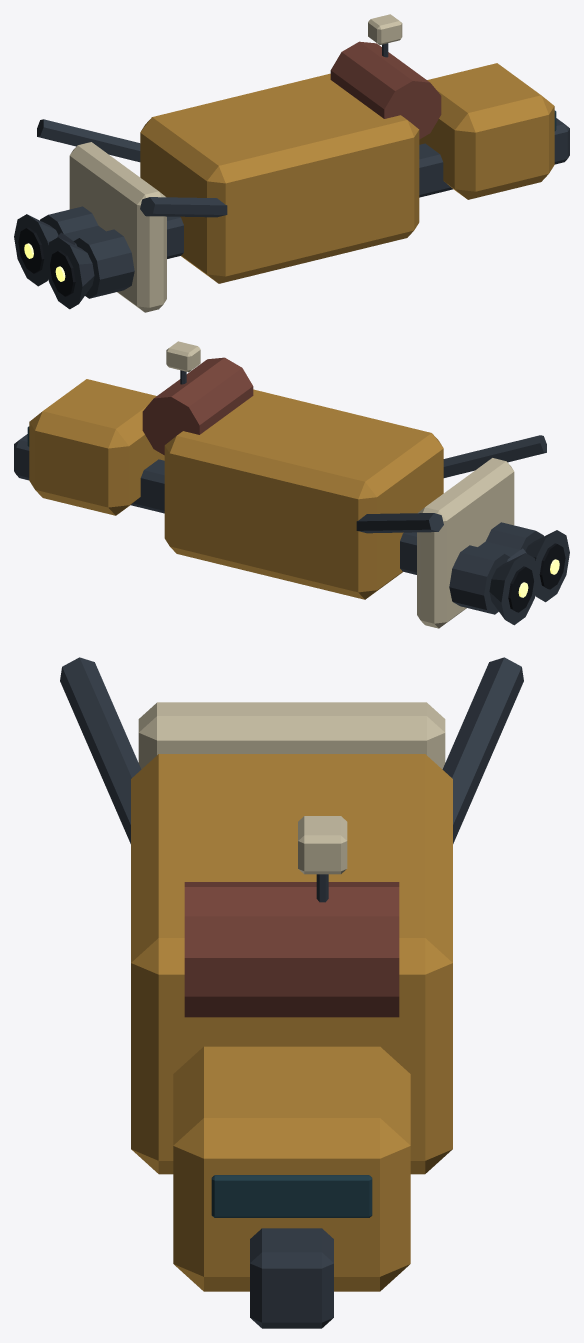
File: last-purchase.glb
3 renders of one model, top to bottom at view 1: azimuth 30°, elevation 25°; view 2: azimuth 150°, elevation 25°; view 3: azimuth 270°, elevation 25°, orthographic. The views are drawn at different scales.
Visible parts, largest first — view 1: machinery block, forward command, reactor shield, tow winch, structural spine, engine jacket, towing arm.001, engine bell, towing arm, engine bell.001, engine jacket.001, sensor head (+2 smaller); view 2: machinery block, forward command, reactor shield, tow winch, structural spine, engine jacket.001, towing arm, engine bell.001, towing arm.001, engine bell, engine jacket, sensor head (+2 smaller); view 3: machinery block, forward command, tow winch, reactor shield, structural spine, bridge glazing, towing arm, towing arm.001, sensor head.
Boxes of the visible parts, left/top/right/bottom form: machinery block: left=140, top=73, right=419, bottom=283; forward command: left=419, top=63, right=554, bottom=199; reactor shield: left=69, top=142, right=166, bottom=312; tow winch: left=330, top=41, right=441, bottom=139; structural spine: left=57, top=118, right=569, bottom=258; engine jacket: left=73, top=229, right=134, bottom=298; towing arm.001: left=37, top=119, right=140, bottom=162; engine bell: left=45, top=237, right=94, bottom=309; towing arm: left=140, top=197, right=227, bottom=217; engine bell.001: left=14, top=214, right=58, bottom=286; engine jacket.001: left=40, top=206, right=98, bottom=234; sensor head: left=368, top=14, right=402, bottom=44; machinery block: left=164, top=389, right=443, bottom=599; forward command: left=29, top=379, right=164, bottom=515; reactor shield: left=417, top=458, right=514, bottom=628; tow winch: left=142, top=357, right=253, bottom=455; structural spine: left=14, top=434, right=526, bottom=574; engine jacket.001: left=449, top=545, right=510, bottom=614; towing arm: left=443, top=435, right=546, bottom=477; engine bell.001: left=489, top=553, right=537, bottom=625; towing arm.001: left=356, top=513, right=443, bottom=533; engine bell: left=525, top=530, right=569, bottom=602; engine jacket: left=485, top=522, right=543, bottom=550; sensor head: left=166, top=341, right=200, bottom=372; machinery block: left=131, top=754, right=452, bottom=1174; forward command: left=173, top=1046, right=410, bottom=1291; tow winch: left=184, top=882, right=399, bottom=1017; reactor shield: left=138, top=702, right=445, bottom=769; structural spine: left=250, top=1228, right=333, bottom=1328; bridge glazing: left=211, top=1175, right=372, bottom=1217; towing arm: left=60, top=657, right=141, bottom=843; towing arm.001: left=442, top=657, right=523, bottom=843; sensor head: left=298, top=816, right=347, bottom=874.
Size of the model in its own units: 7.82 by 2.79 by 3.03.
